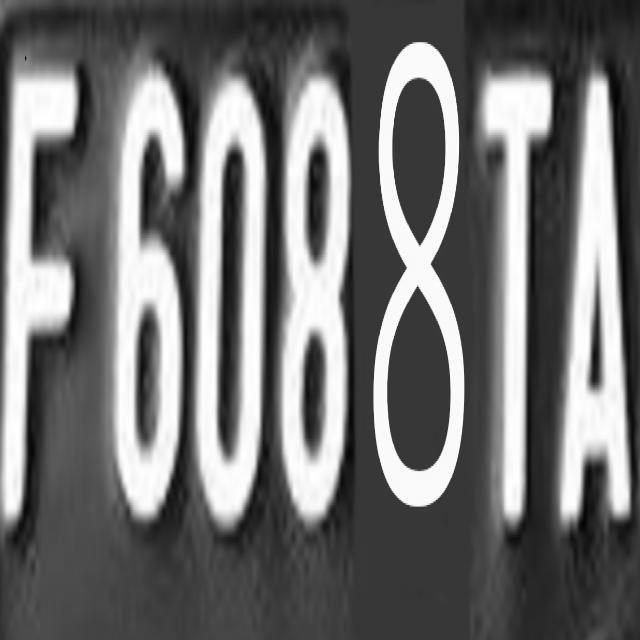0: (194, 64, 274, 538)
6: (106, 63, 194, 528)
8: (366, 32, 474, 518), (276, 60, 351, 544)
A: (558, 70, 640, 532)
F: (0, 46, 80, 538)
T: (483, 58, 549, 532)
